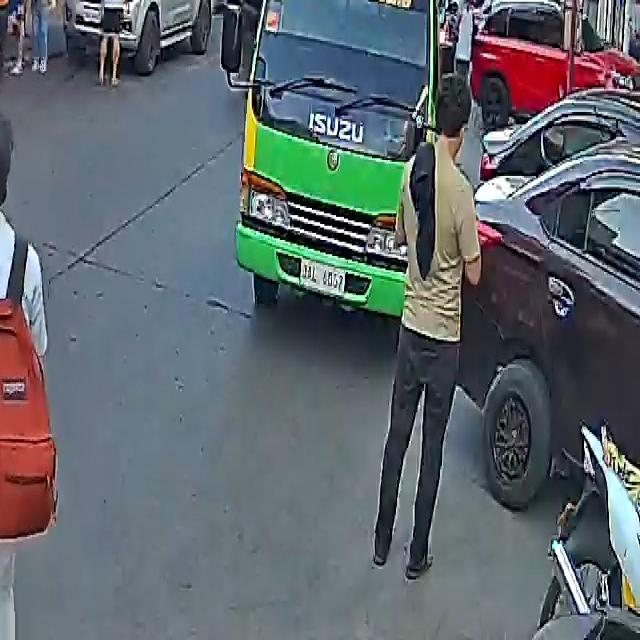car: (472, 89, 640, 537), (468, 0, 640, 153), (84, 0, 217, 64)
